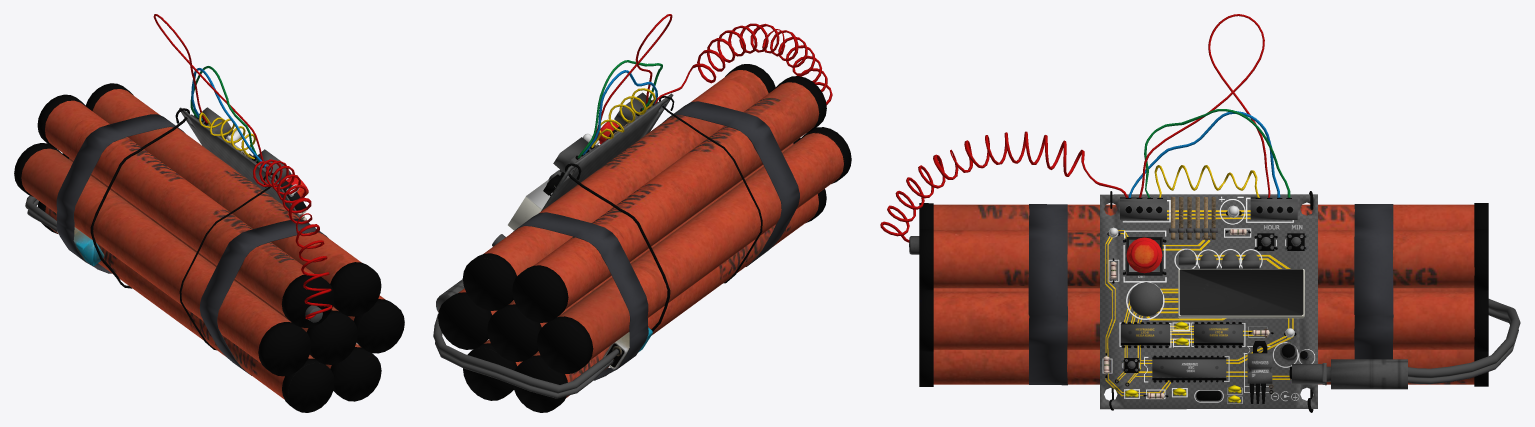
Rendered from TNT_Bomb.FBX.
3 renders of one model, left to right at view 1: azimuth 30°, elevation 25°; view 2: azimuth 150°, elevation 25°; view 3: azimuth 270°, elevation 25°, orthographic. The views are drawn at different scales.
Parts seen in each view (by area): view 1: mesh1.dat.desirefx.me_; view 2: mesh1.dat.desirefx.me_; view 3: mesh1.dat.desirefx.me_.
Part boxes in pixels (x1=…): mesh1.dat.desirefx.me_: x1=14, y1=14, x2=404, y2=412; mesh1.dat.desirefx.me_: x1=433, y1=14, x2=851, y2=412; mesh1.dat.desirefx.me_: x1=880, y1=14, x2=1520, y2=412.
Bounding box in the file's own units: 2.85 × 4.39 × 7.51.
2 materials, 2 textured.
